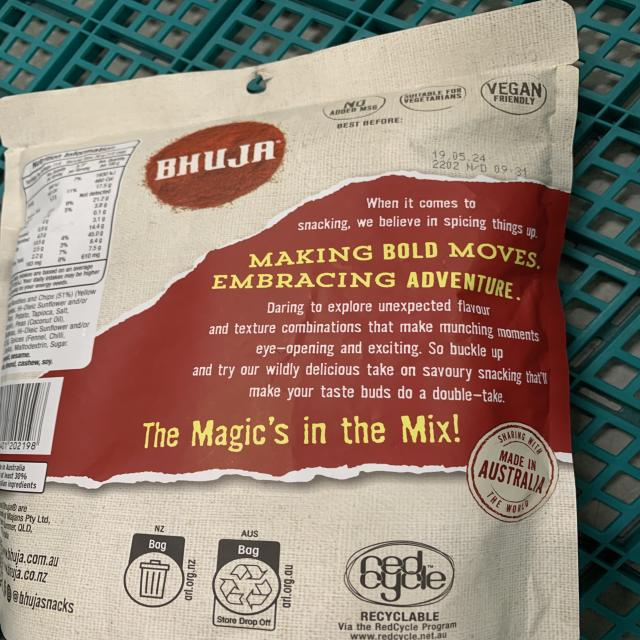object_name: (6, 55, 558, 640)
